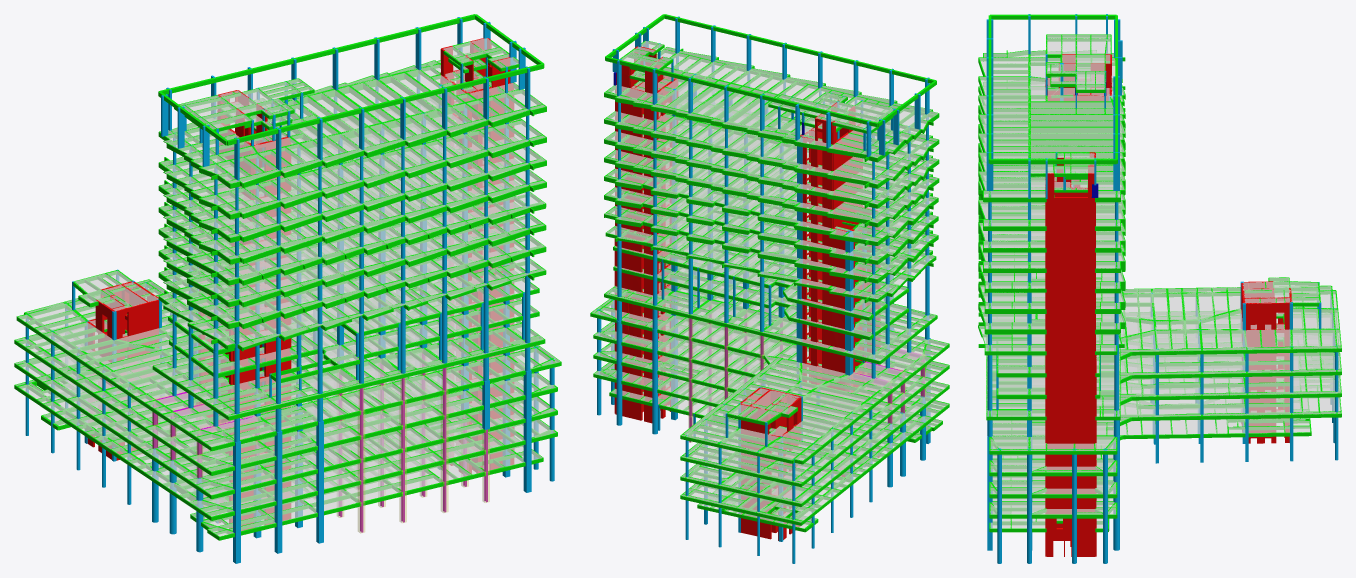
File: HospitalT1_view.glb
3 views of the same model, side by side, from view 1: azimuth 30°, elevation 25°; view 2: azimuth 150°, elevation 25°; view 3: azimuth 270°, elevation 25° (orthographic). The views are drawn at different scales.
Parts seen in each view (by area): view 1: Floor_3D1, Beam_3D1, Column_3D1, Pier_3D1, Column_C50_SDSection3D1, Column_Q355_SDSection3D1; view 2: Floor_3D1, Beam_3D1, Column_3D1, Pier_3D1, Column_C50_SDSection3D1, Spandrel_3D1, Column_Q355_SDSection3D1; view 3: Floor_3D1, Beam_3D1, Pier_3D1, Column_3D1, Spandrel_3D1.
Boxes of the visible parts, bbox=[...] form: Floor_3D1: bbox=[15, 38, 560, 536]; Beam_3D1: bbox=[14, 14, 561, 540]; Column_3D1: bbox=[25, 17, 554, 563]; Pier_3D1: bbox=[87, 38, 513, 530]; Column_C50_SDSection3D1: bbox=[152, 368, 489, 533]; Column_Q355_SDSection3D1: bbox=[152, 354, 487, 532]; Floor_3D1: bbox=[592, 41, 948, 528]; Beam_3D1: bbox=[590, 14, 949, 532]; Column_3D1: bbox=[597, 16, 930, 563]; Pier_3D1: bbox=[614, 46, 880, 540]; Column_C50_SDSection3D1: bbox=[688, 318, 925, 442]; Spandrel_3D1: bbox=[634, 76, 822, 495]; Column_Q355_SDSection3D1: bbox=[689, 306, 924, 442]; Floor_3D1: bbox=[979, 34, 1341, 528]; Beam_3D1: bbox=[978, 14, 1341, 532]; Pier_3D1: bbox=[1045, 54, 1292, 556]; Column_3D1: bbox=[986, 14, 1338, 563]; Spandrel_3D1: bbox=[1045, 59, 1284, 540].
Size of the model in its own units: 73376 by 81900 by 68043.
